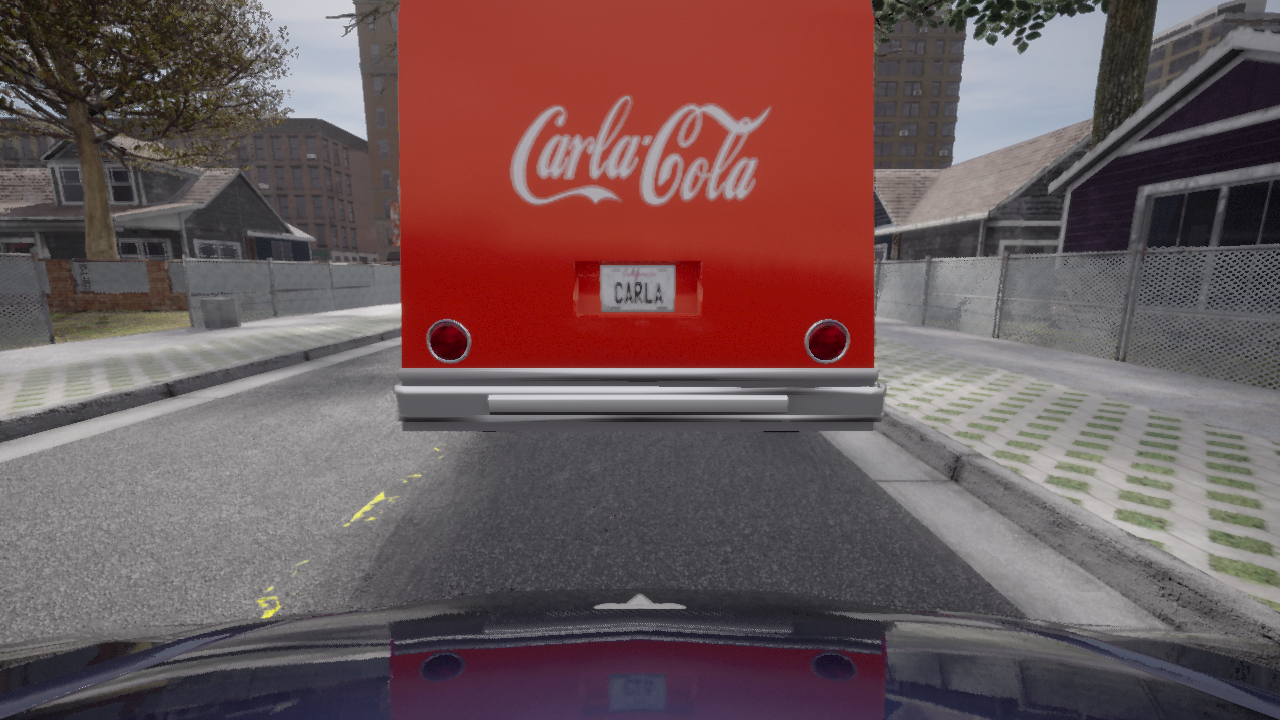cyclist: (394, 0, 885, 432), (0, 588, 1279, 719)
